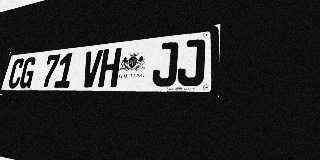1: (54, 53, 75, 88)
7: (40, 54, 61, 88)
C: (7, 58, 25, 88)
G: (18, 57, 37, 88)
H: (98, 48, 122, 87)
J: (177, 38, 206, 86), (151, 41, 179, 87)
V: (80, 50, 103, 88)
